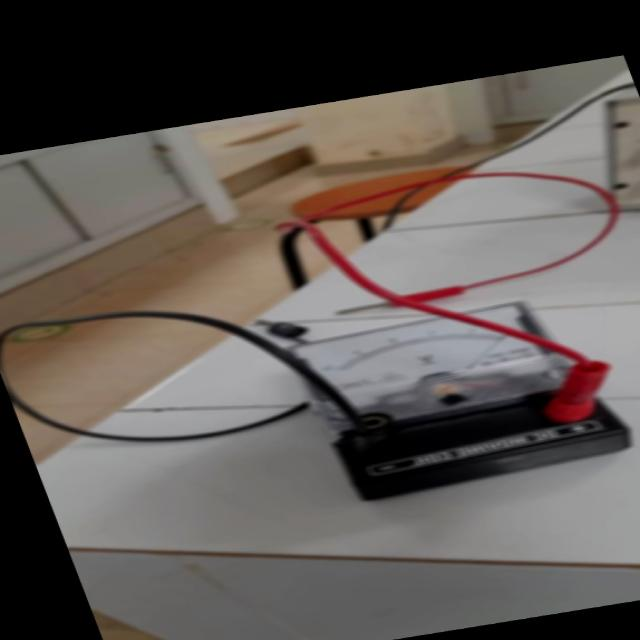Voltmeter: (208, 253, 640, 519)
